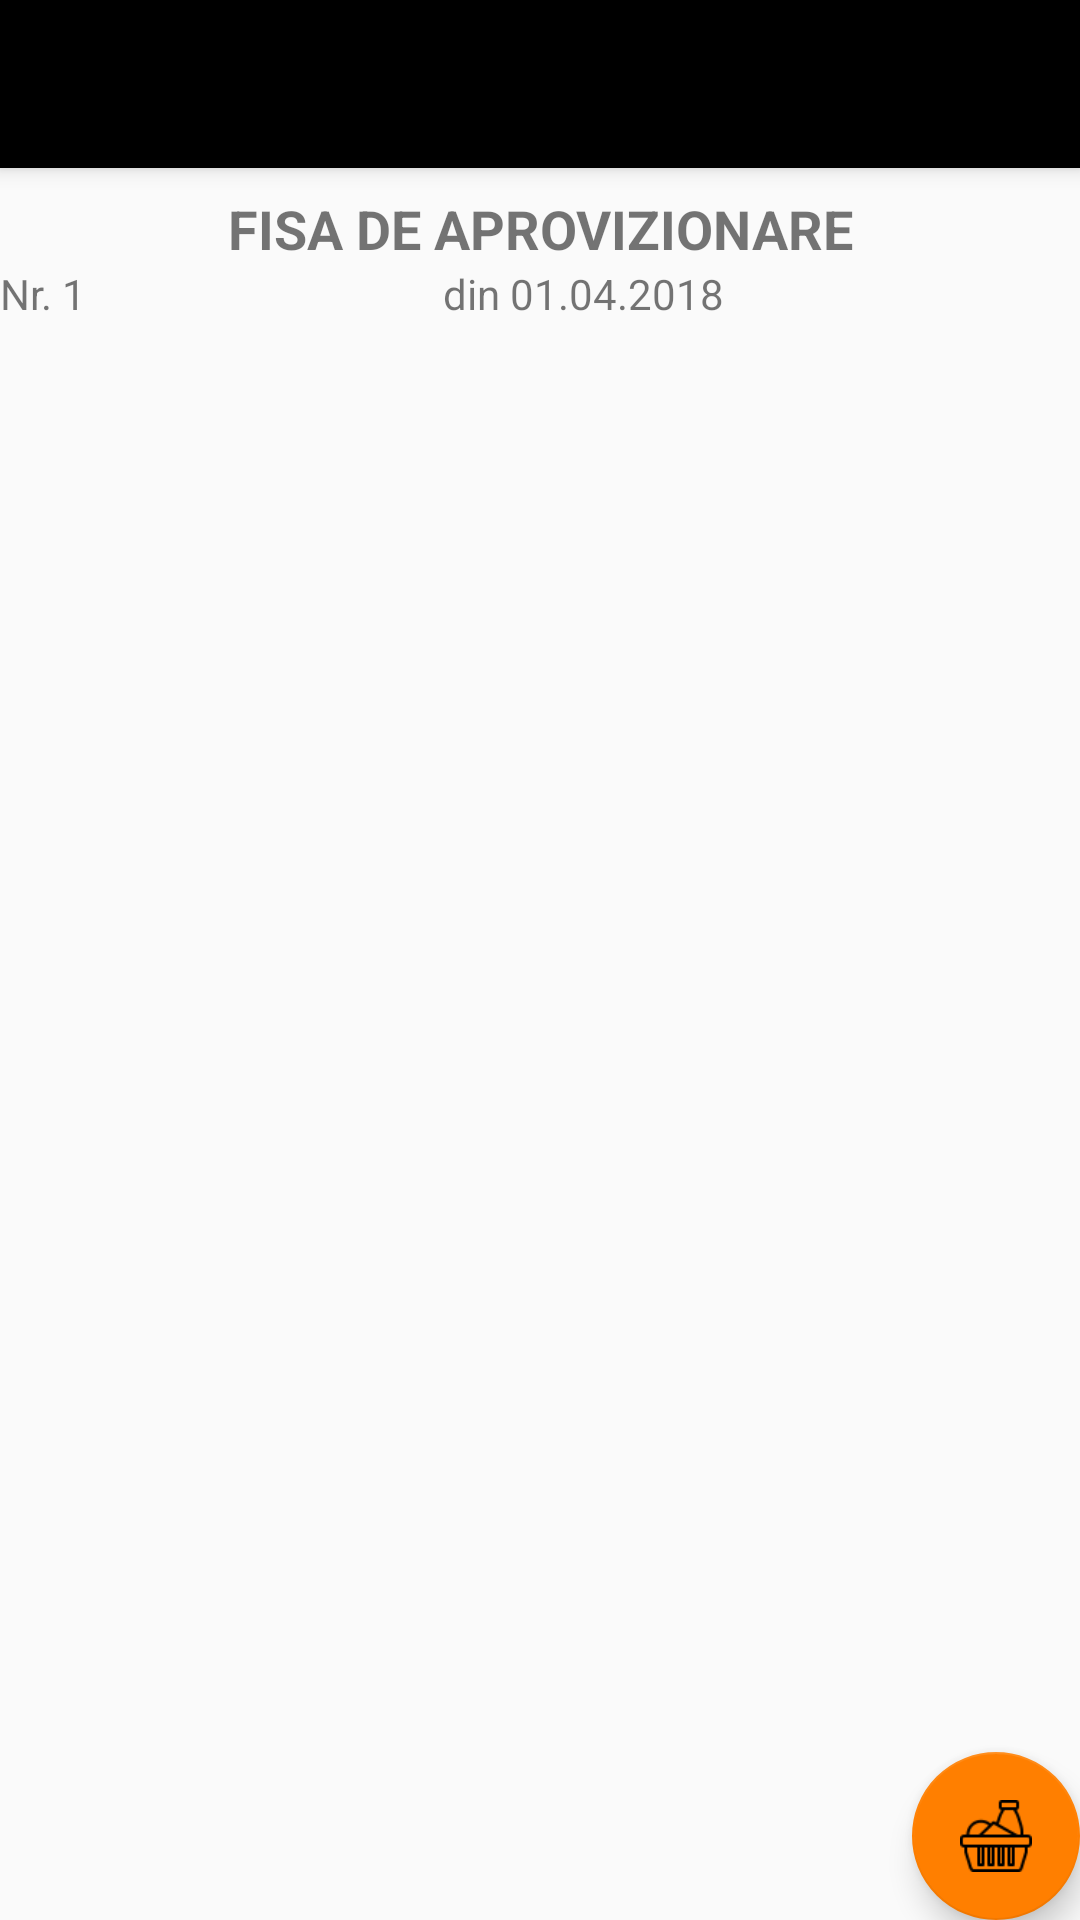

Icons on this 1080 × 1920 Android screen, each with the point to tap as (x,y):
ingredients: (996,1836)
